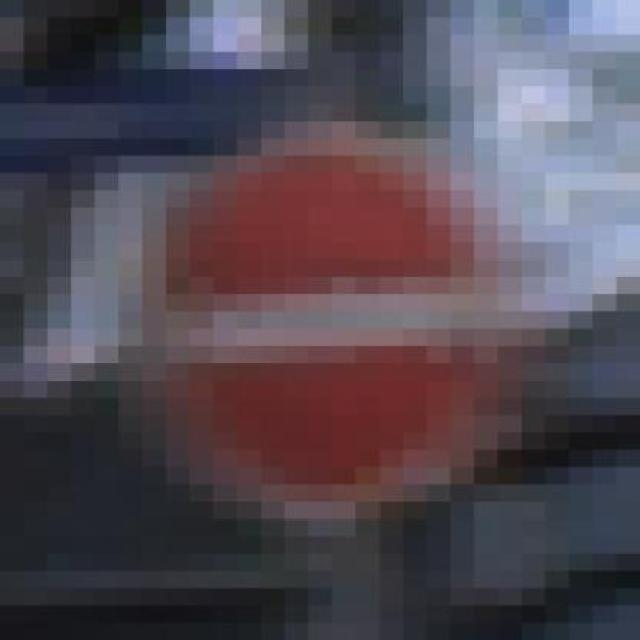B2: (144, 148, 508, 504)
